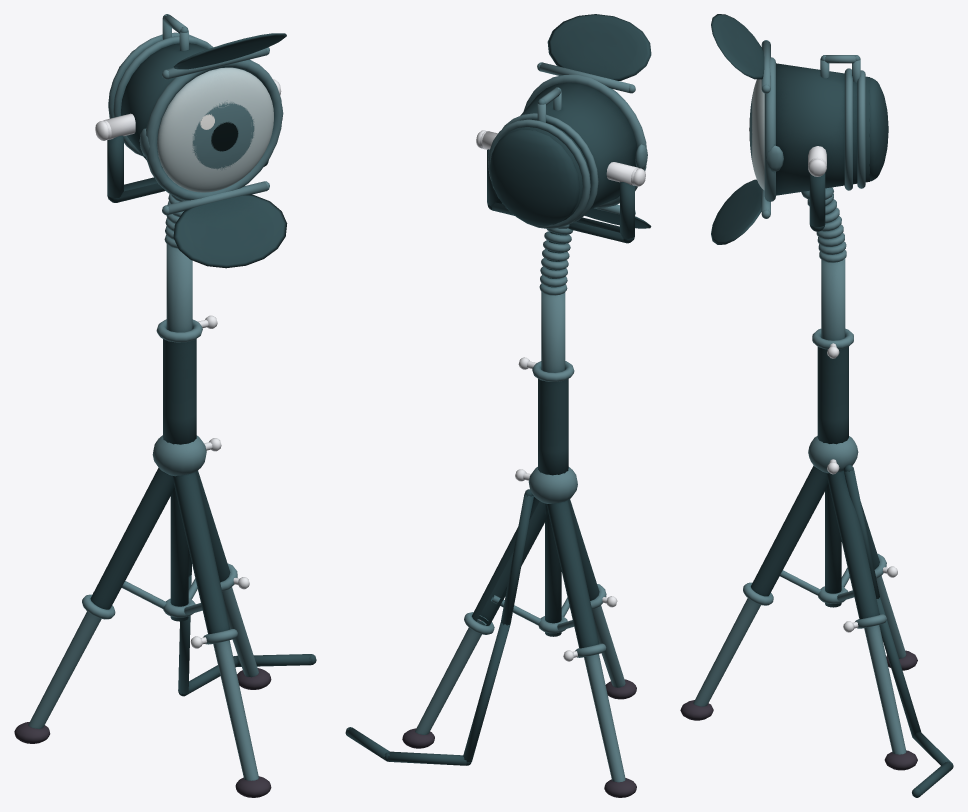
Rendered from clown_v2_static.glb.
The picture shows the model from 3 angles, left to right: view 1: azimuth 30°, elevation 25°; view 2: azimuth 150°, elevation 25°; view 3: azimuth 270°, elevation 25°; orthographic projection. The views are drawn at different scales.
Visible parts, largest first — view 1: body, head; view 2: body; view 3: body, head.
Part boxes in pixels (x1,y1,x2,y2): body: (14, 14, 316, 797); head: (157, 67, 273, 192); body: (345, 14, 651, 797); body: (680, 14, 953, 797); head: (749, 79, 764, 190).
Size of the model in its own units: 0.9395 by 2.19 by 0.783.
Materials: 2 (2 with a texture image).
